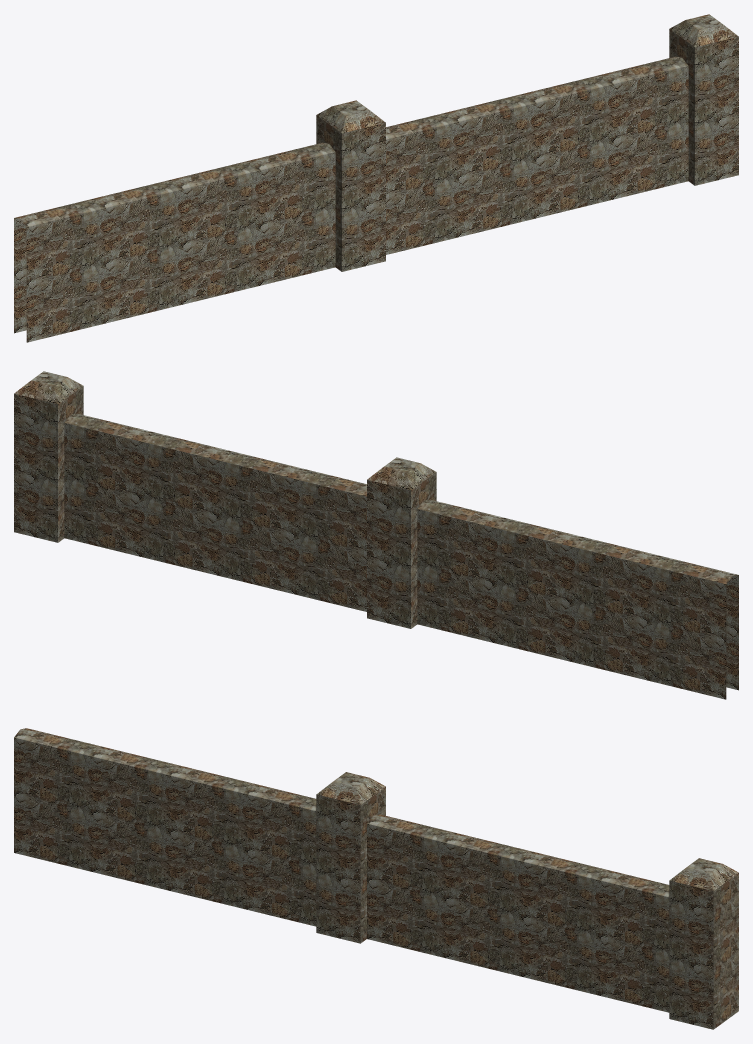
The model's file is MWalC2.glb.
3 renders of one model, top to bottom at view 1: azimuth 30°, elevation 25°; view 2: azimuth 150°, elevation 25°; view 3: azimuth 330°, elevation 25°, orthographic.
Visible parts, largest first — view 1: _MWalC2; view 2: _MWalC2; view 3: _MWalC2.
Part boxes in pixels (x1=…): _MWalC2: x1=14, y1=14, x2=738, y2=342; _MWalC2: x1=14, y1=371, x2=738, y2=699; _MWalC2: x1=14, y1=728, x2=738, y2=1029.
Size of the model in its own units: 16 by 3.23 by 1.
1 material, 1 textured.
